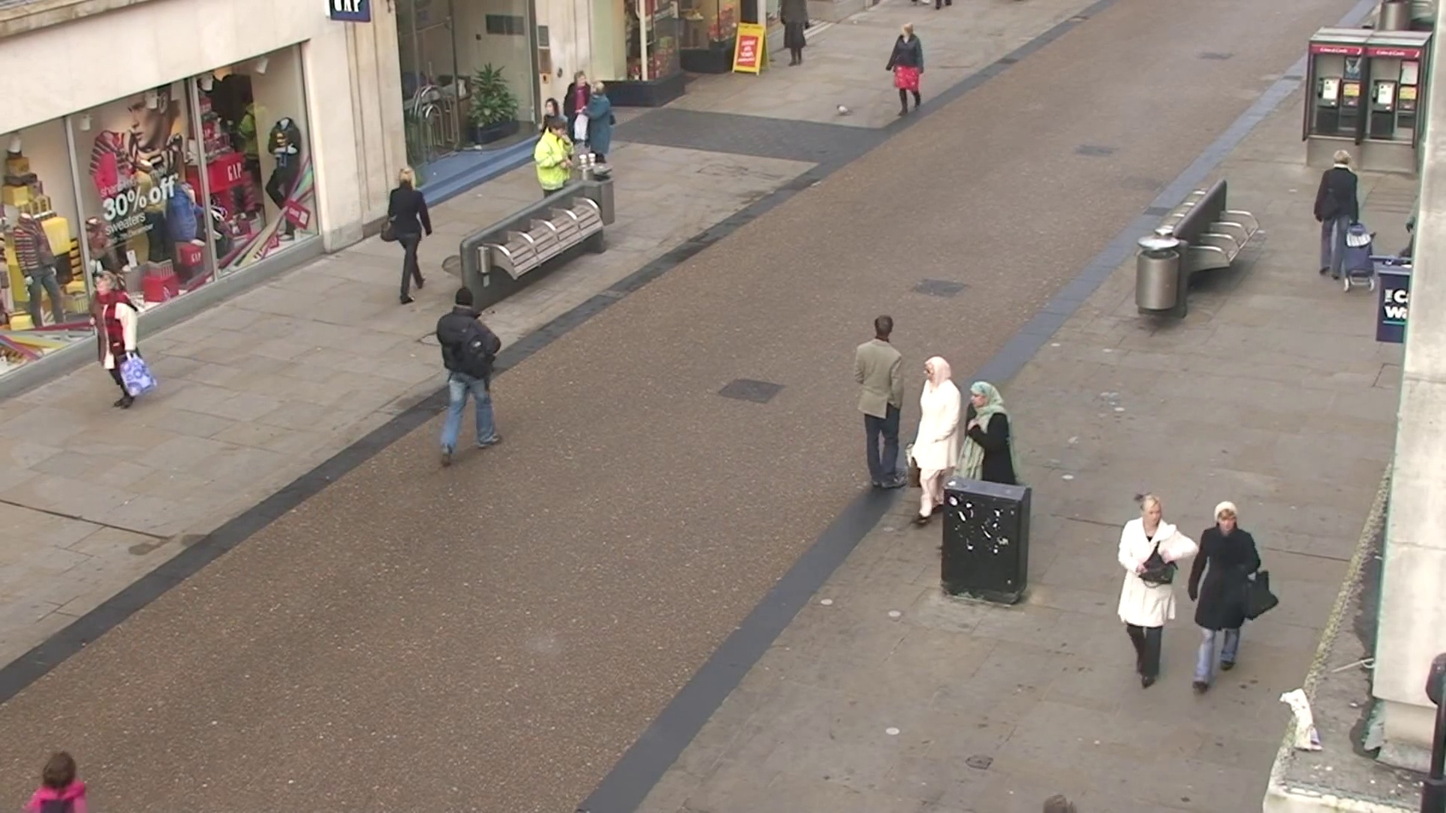person: (1188, 501, 1270, 692), (1117, 492, 1194, 690), (434, 288, 505, 461), (908, 355, 965, 526), (855, 315, 905, 489), (383, 166, 434, 305), (1312, 153, 1361, 278), (962, 379, 1017, 485), (266, 115, 304, 230), (23, 750, 89, 812), (99, 273, 138, 373), (886, 24, 925, 117), (565, 75, 602, 172), (583, 81, 617, 176), (535, 119, 575, 196)
